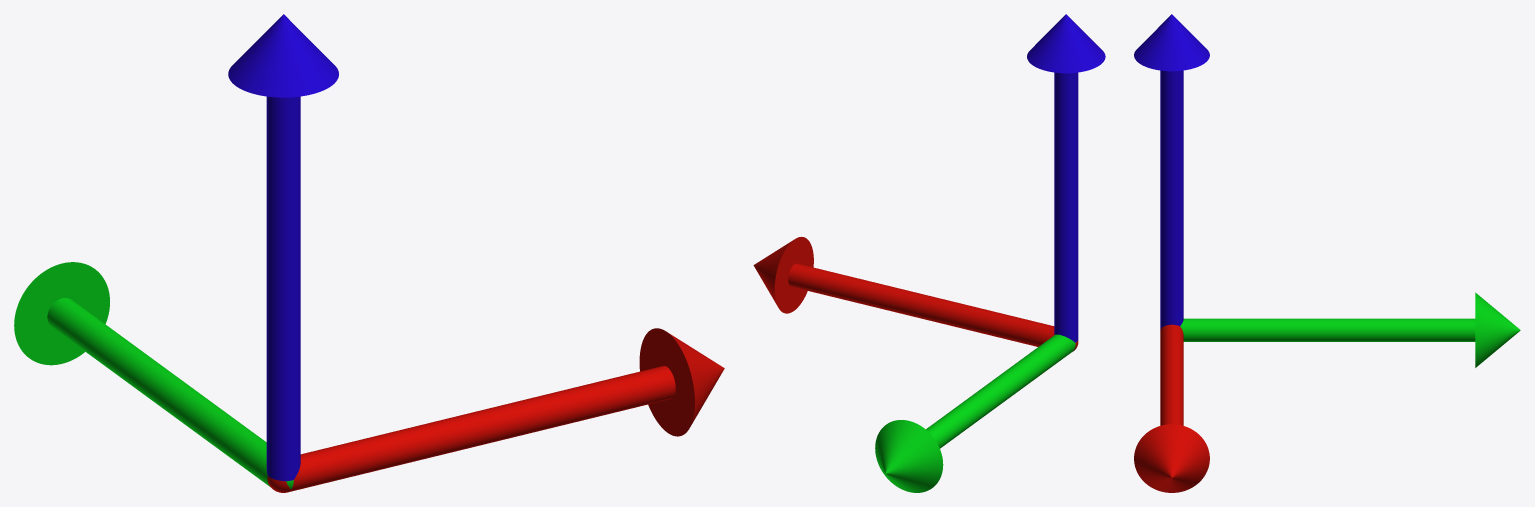
File: frame.dae
3 views of the same model, side by side, from view 1: azimuth 30°, elevation 25°; view 2: azimuth 150°, elevation 25°; view 3: azimuth 270°, elevation 25° (orthographic). The views are drawn at different scales.
Parts seen in each view (by area): view 1: Part1, Part1_001, Part1_002; view 2: Part1, Part1_001, Part1_002; view 3: Part1_002, Part1, Part1_001.
Boxes of the visible parts, x1,y1,x2,y2 form: Part1: [228, 14, 338, 481]; Part1_001: [267, 328, 724, 492]; Part1_002: [14, 262, 293, 489]; Part1: [1027, 14, 1105, 342]; Part1_001: [753, 236, 1078, 351]; Part1_002: [875, 334, 1075, 492]; Part1_002: [1180, 292, 1520, 367]; Part1: [1134, 14, 1209, 329]; Part1_001: [1134, 324, 1209, 492].
Size of the model in its own units: 0.9801 by 0.9804 by 0.9807.
